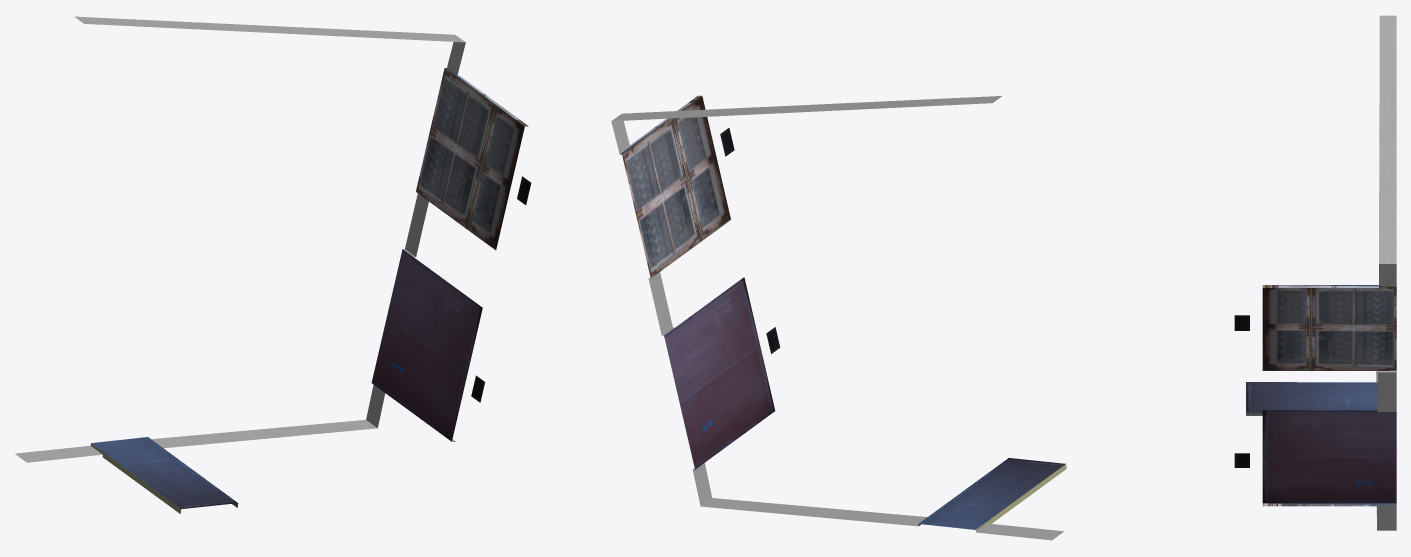
The model's file is Harju 11b.obj.
3 renders of one model, left to right at view 1: azimuth 30°, elevation 25°; view 2: azimuth 150°, elevation 25°; view 3: azimuth 270°, elevation 25°, orthographic. The views are drawn at different scales.
Visible parts, largest first — view 1: Box01; view 2: Box01; view 3: Box01.
Boxes of the visible parts, left/top/right/bottom form: Box01: left=15, top=16, right=531, bottom=513; Box01: left=611, top=95, right=1066, bottom=540; Box01: left=1234, top=15, right=1396, bottom=530.
Size of the model in its own units: 8.1 by 8 by 3.58.
